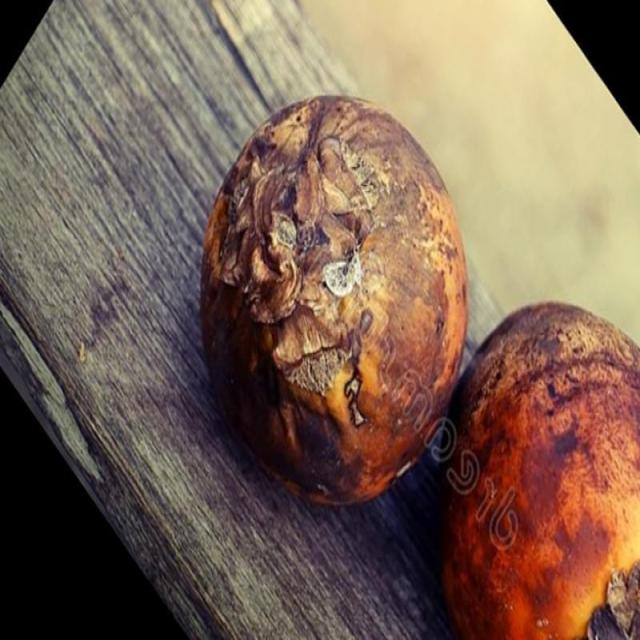damaged: (200, 96, 470, 508)
